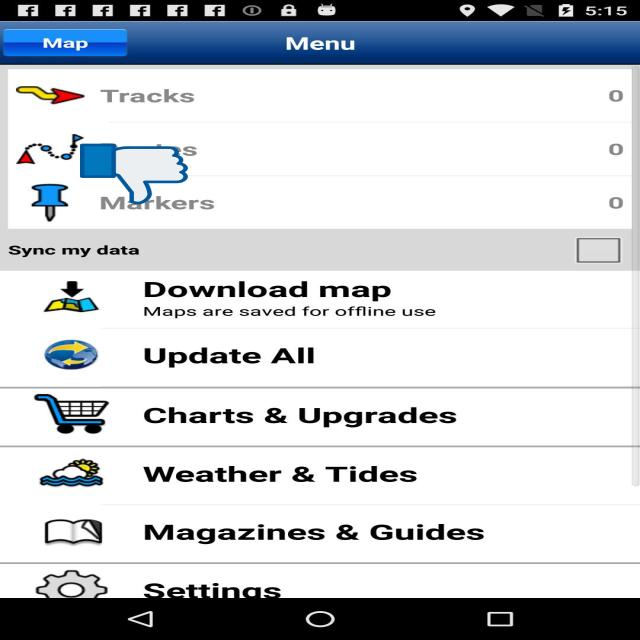obstruction: (80, 142, 188, 206)
